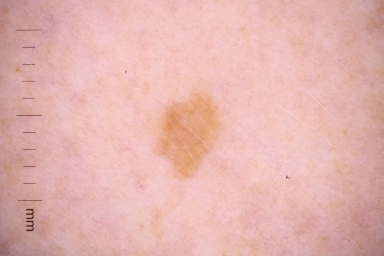nevus: (152, 95, 224, 180)
